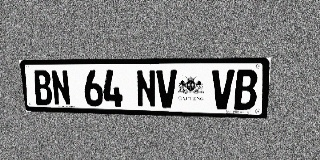4: (102, 70, 123, 107)
6: (83, 70, 104, 106)
B: (234, 70, 258, 110), (32, 70, 53, 105)
N: (135, 70, 156, 108), (50, 70, 71, 106)
V: (211, 70, 234, 109), (156, 70, 177, 108)
